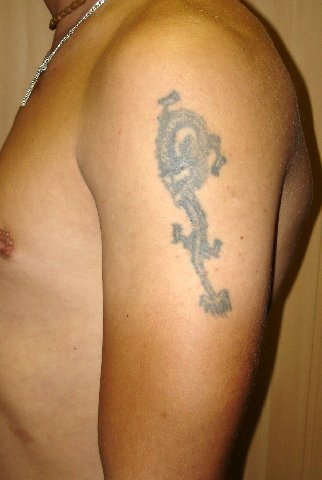tatu6_drakon: (130, 77, 256, 325)
